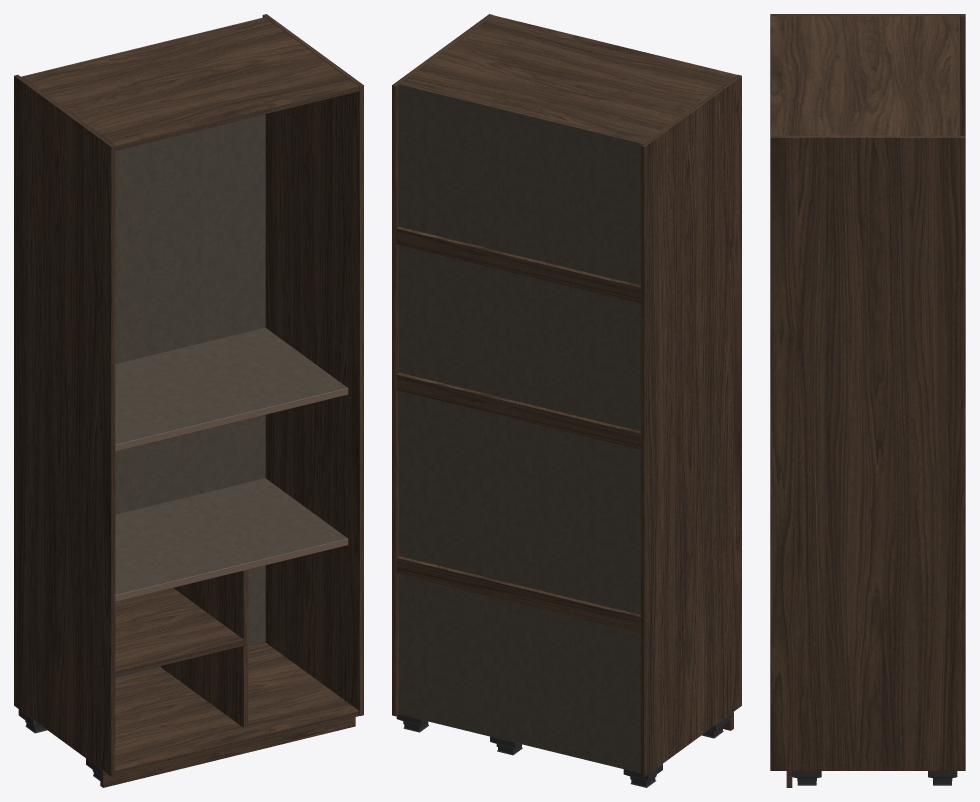
3 renders of one model, left to right at view 1: azimuth 30°, elevation 25°; view 2: azimuth 150°, elevation 25°; view 3: azimuth 270°, elevation 25°, orthographic.
Visible parts, largest first — view 1: HK1001066; view 2: HK1001066; view 3: HK1001066.
Boxes of the visible parts, <box> form: HK1001066: <box>14,14,363,787</box>; HK1001066: <box>392,14,741,787</box>; HK1001066: <box>770,14,965,787</box>.
Size of the model in its own units: 0.9 by 2.2 by 0.6.
Materials: 7 (6 with a texture image).
